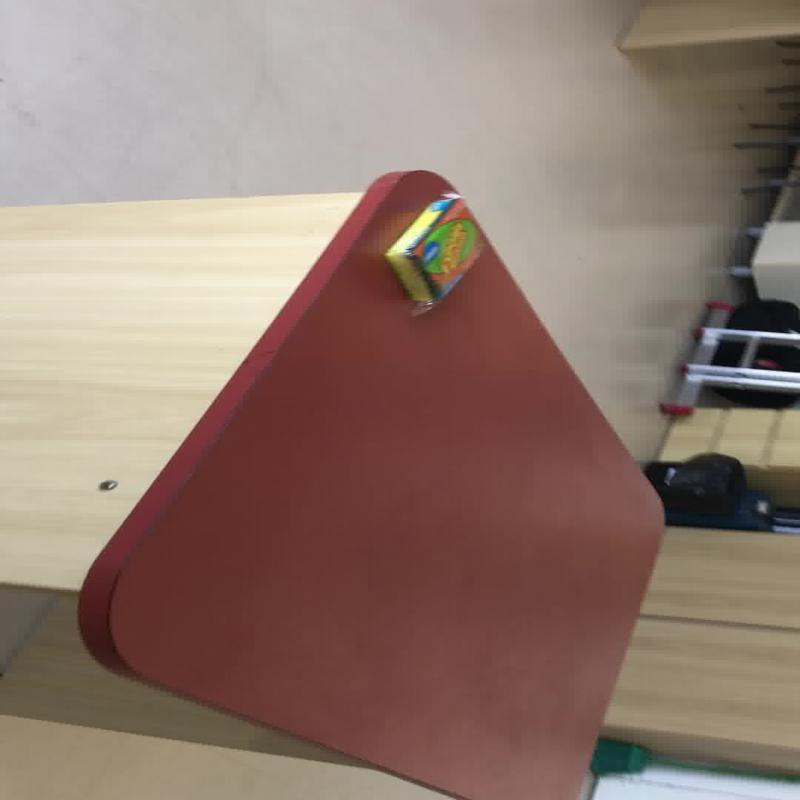sponge: (77, 168, 667, 797), (381, 191, 484, 316)
